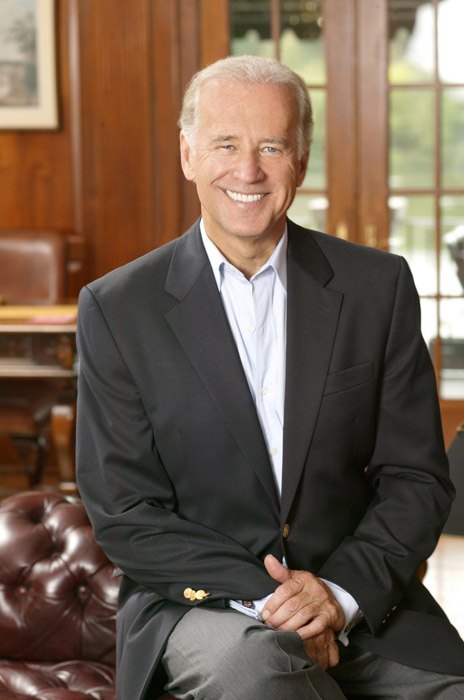male: (74, 54, 464, 700)
